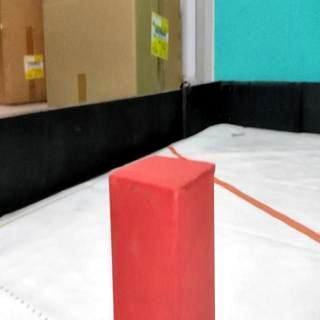redbox: (107, 155, 215, 320)
